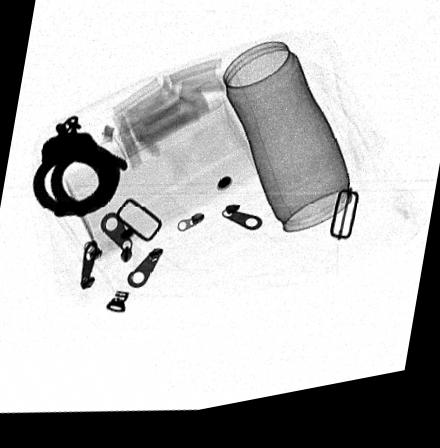HandCuffs: (32, 118, 129, 220)
